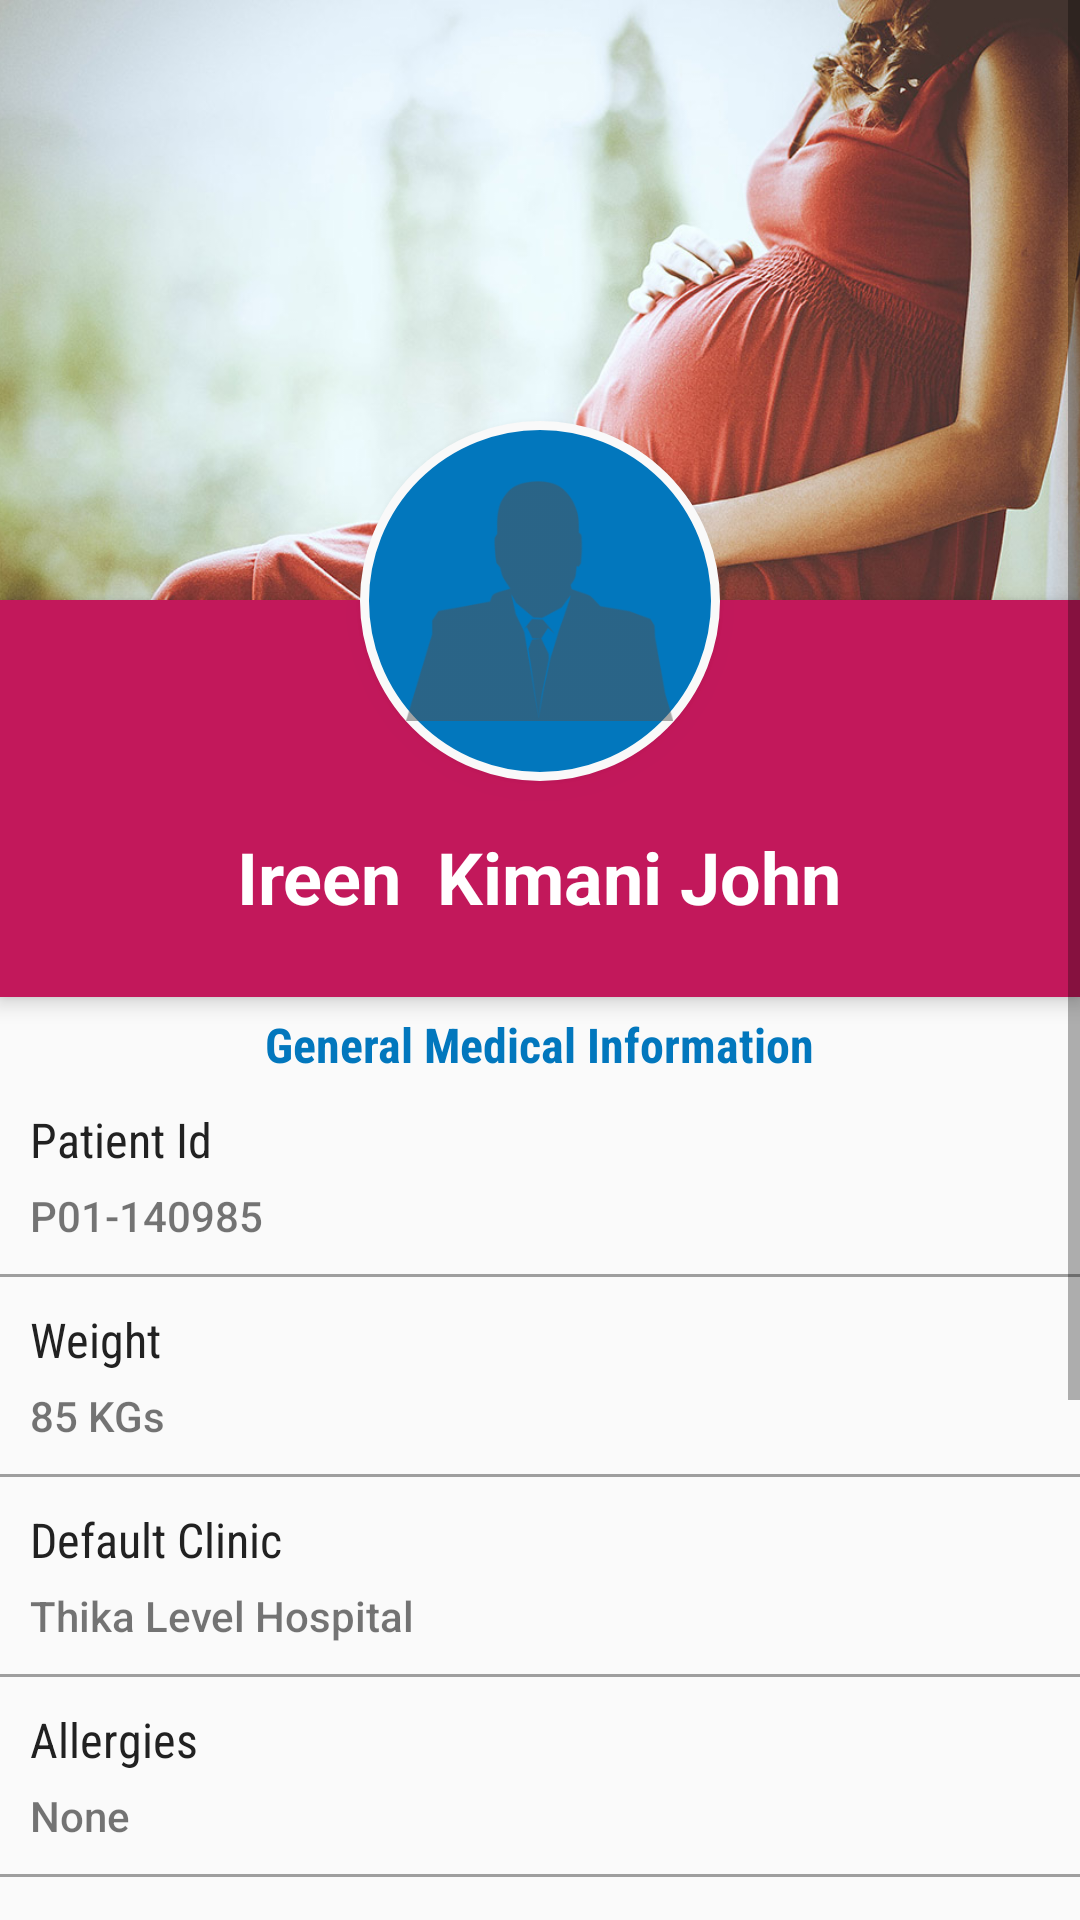

Point at icon controls on the screen. Image size 1080px×1920px, points as [x,y].
expert: [540,601]
